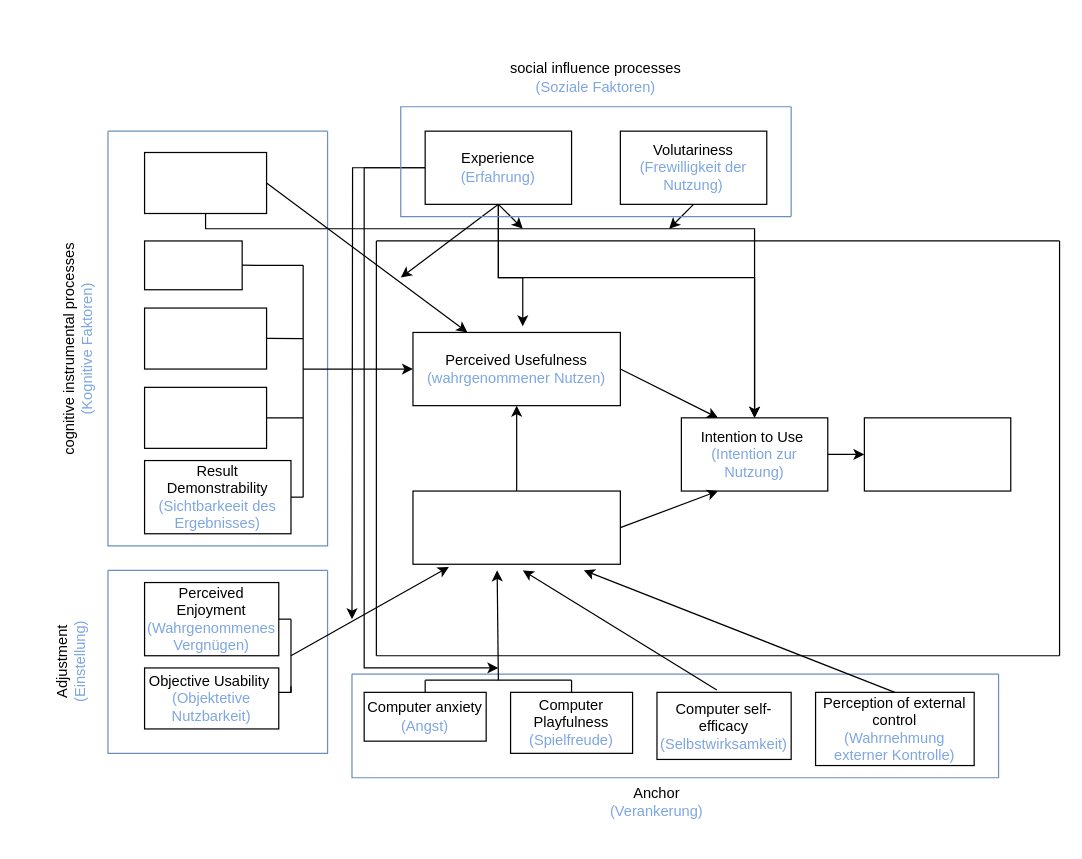
Some shapes in this 1082 by 859 pixel diagram are drawn without their labels. The centre of each missing label's shape, as x and y in pixels:
Image (Image): pixel 192 265
Job Relevance (Arbeitsrelevanz): pixel 205 338
Output Quality (Ergebnisqualität): pixel 205 417
Perceived Ease of Use (wahrgenommene Benutzerfreundlichkeit): pixel 516 527
Subjective Norm (Subjektive Norm): pixel 205 182
Usage Behavior (Nutzungsverhalten): pixel 937 454
